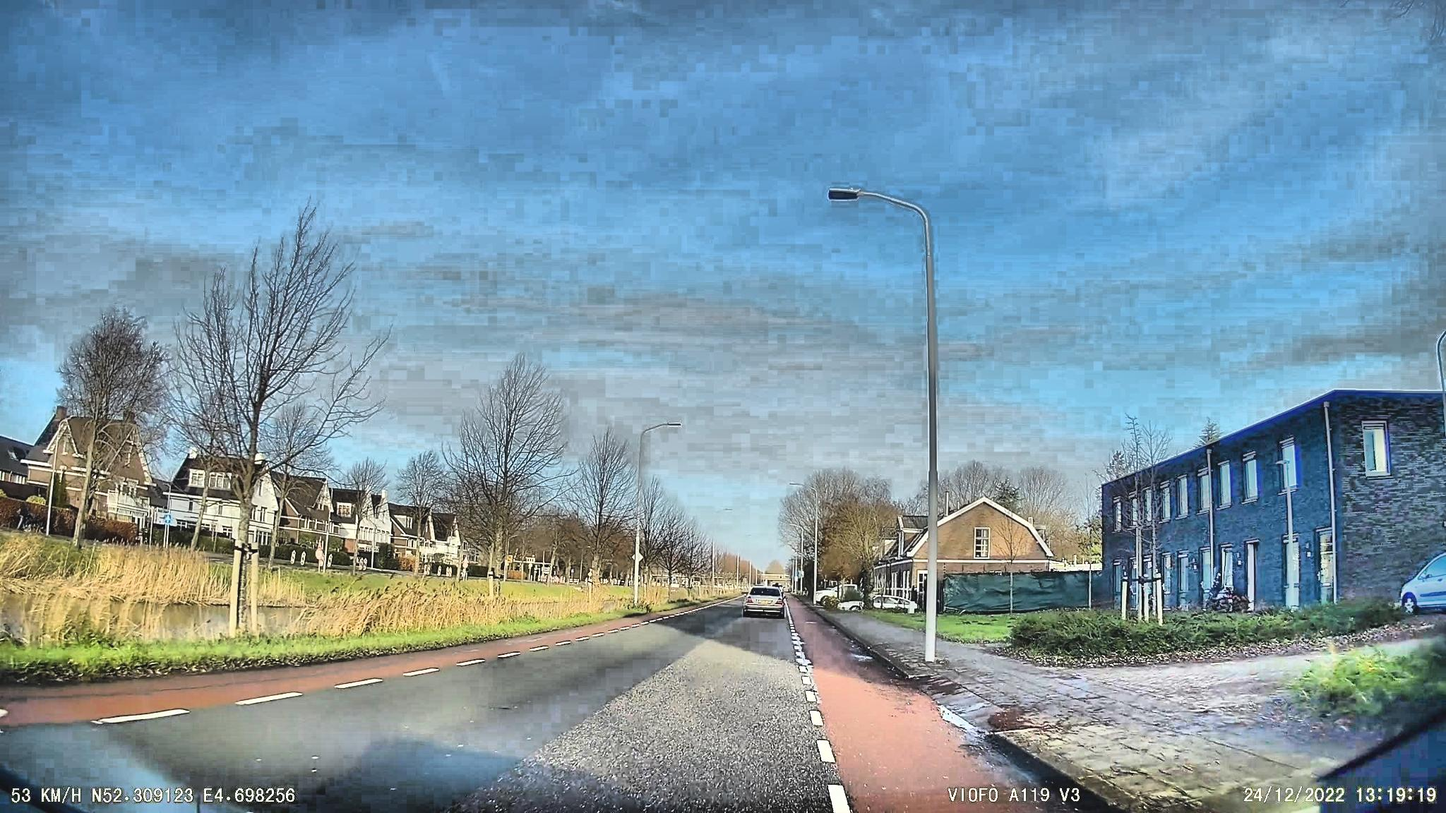Roads: (0, 608, 1125, 813)
